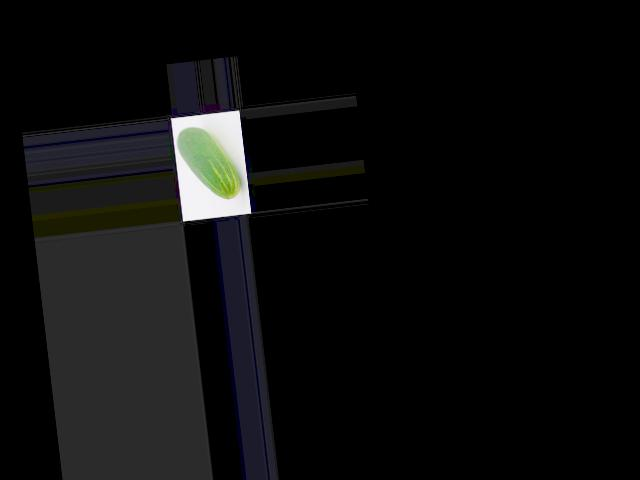cucumber: (175, 121, 242, 204)
